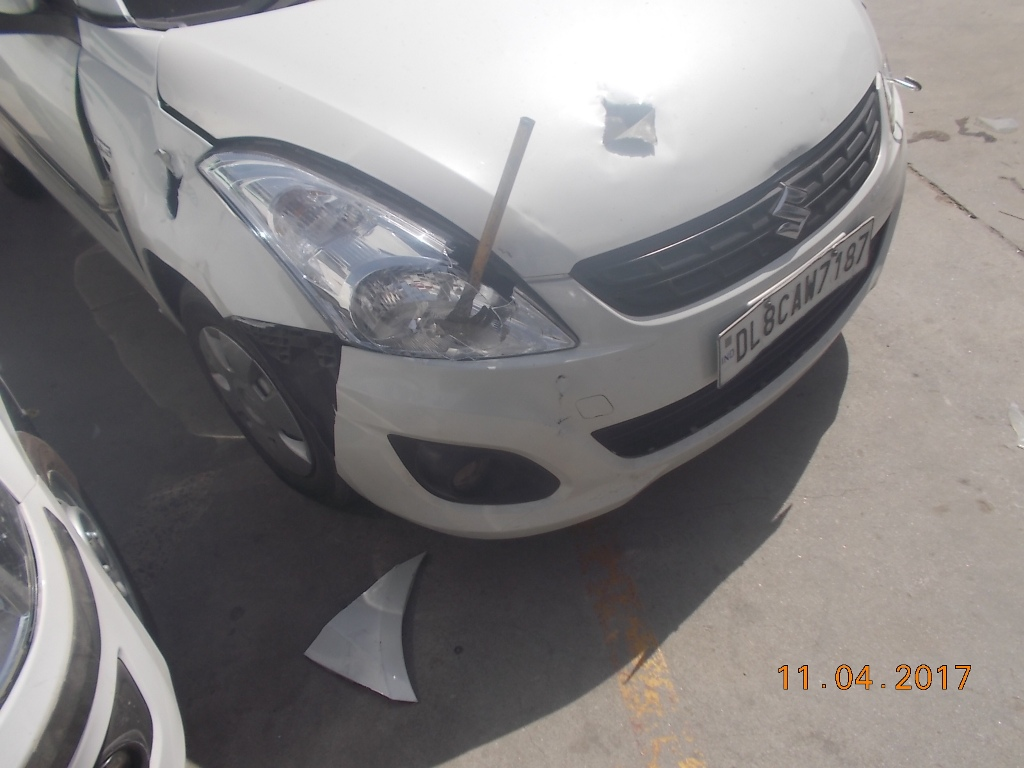Tear: (315, 336, 368, 495), (600, 93, 664, 168), (150, 140, 189, 226)
